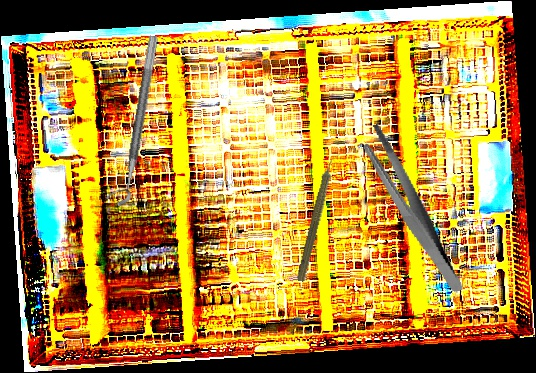Dressing Forceps: (358, 113, 465, 305)
Fixation Ring: (104, 32, 160, 209)
Handpiece: (294, 149, 342, 284)
